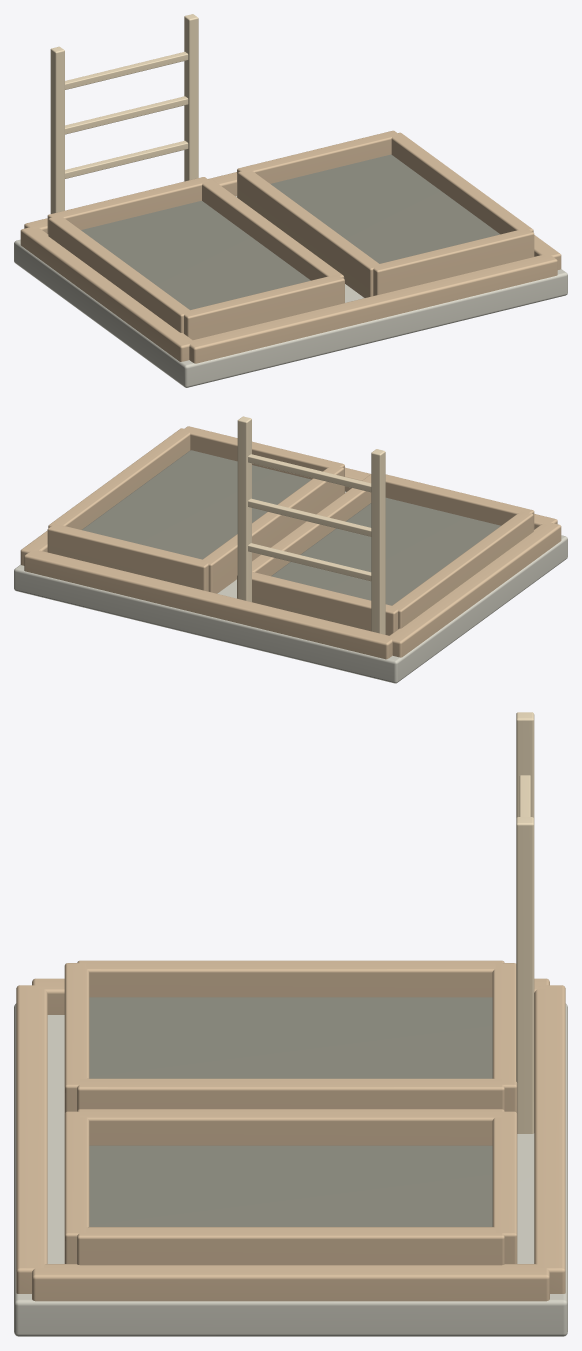
File: kitchen-garden-roof.glb
3 views of the same model, one above another, from view 1: azimuth 30°, elevation 25°; view 2: azimuth 150°, elevation 25°; view 3: azimuth 270°, elevation 25° (orthographic). The views are drawn at different scales.
Parts seen in each view (by area): view 1: Prepared soil.002, Prepared soil.003, Rounded stone footing.030, Sill beam.120, Bed side.006, Bed end.006, Sill beam.122, Bed end.004, Bed side.004, Bed side.007, Bed side.005, Bed end.007 (+7 smaller); view 2: Rounded stone footing.030, Prepared soil.003, Prepared soil.002, Sill beam.121, Bed end.007, Sill beam.122, Bed side.006, Bed end.005, Bed side.004, Bed side.007, Bed end.004, Trellis upright (+8 smaller); view 3: Prepared soil.002, Prepared soil.003, Rounded stone footing.030, Sill beam.123, Bed side.007, Bed side.004, Bed side.006, Bed side.005, Sill beam.120, Sill beam.121, Trellis upright.001, Bed end.006 (+5 smaller).
Boxes of the visible parts, box(x1,y1,x2,y2) form: Prepared soil.002: box(81, 201, 310, 309); Prepared soil.003: box(271, 154, 499, 263); Rounded stone footing.030: box(14, 196, 567, 387); Sill beam.120: box(188, 255, 557, 363); Bed side.006: box(237, 171, 380, 297); Bed end.006: box(373, 228, 534, 295); Sill beam.122: box(20, 227, 194, 361); Bed end.004: box(183, 274, 344, 339); Bed side.004: box(48, 216, 191, 333); Bed side.007: box(391, 132, 533, 234); Bed side.005: box(202, 179, 344, 280); Bed end.007: box(237, 130, 398, 197); Rounded stone footing.030: box(14, 491, 567, 683); Prepared soil.003: box(82, 450, 311, 559); Prepared soil.002: box(271, 497, 500, 605); Sill beam.121: box(24, 550, 392, 659); Bed end.007: box(47, 524, 209, 591); Sill beam.122: box(388, 523, 561, 657); Bed side.006: box(201, 465, 344, 593); Bed end.005: box(237, 572, 398, 635); Bed side.004: box(390, 511, 533, 628); Bed side.007: box(48, 428, 190, 529); Bed end.004: box(385, 474, 534, 529); Trellis upright: box(371, 449, 385, 634); Prepared soil.002: box(89, 997, 492, 1078); Prepared soil.003: box(89, 1145, 492, 1226); Rounded stone footing.030: box(14, 1003, 567, 1336); Sill beam.123: box(32, 1264, 549, 1301); Bed side.007: box(77, 1227, 504, 1265); Bed side.004: box(77, 960, 504, 997); Bed side.006: box(77, 1109, 504, 1145); Bed side.005: box(77, 1078, 504, 1111); Sill beam.120: box(16, 985, 47, 1293); Sill beam.121: box(534, 985, 565, 1293); Trellis upright.001: box(516, 817, 534, 1133); Bed end.006: box(64, 1111, 89, 1263).
Bounding box in the file's own units: 3.16 × 1.7 × 2.46.
